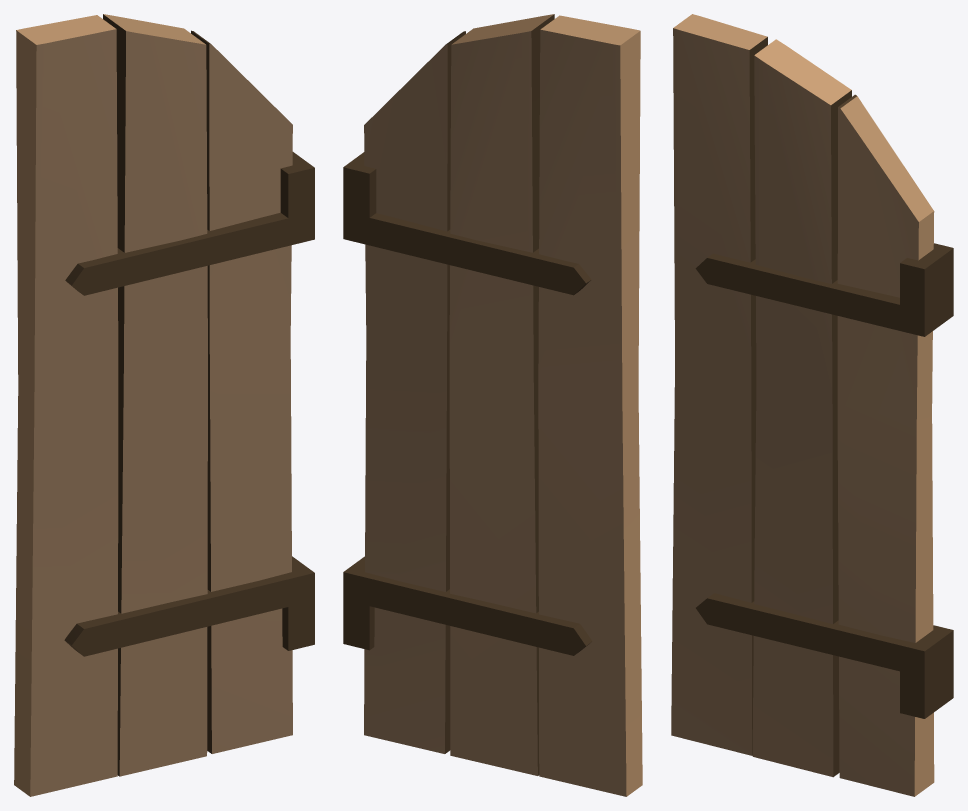
File: Doors.FBX
3 renders of one model, left to right at view 1: azimuth 30°, elevation 25°; view 2: azimuth 150°, elevation 25°; view 3: azimuth 330°, elevation 25°, orthographic. The views are drawn at different scales.
Visible parts, largest first — view 1: Doors; view 2: Doors; view 3: Doors.
Boxes of the visible parts, x1,y1,x2,y2 form: Doors: (14,14,314,796); Doors: (343,14,642,796); Doors: (671,14,953,796).
Size of the model in its own units: 257 by 668 by 49.53.
